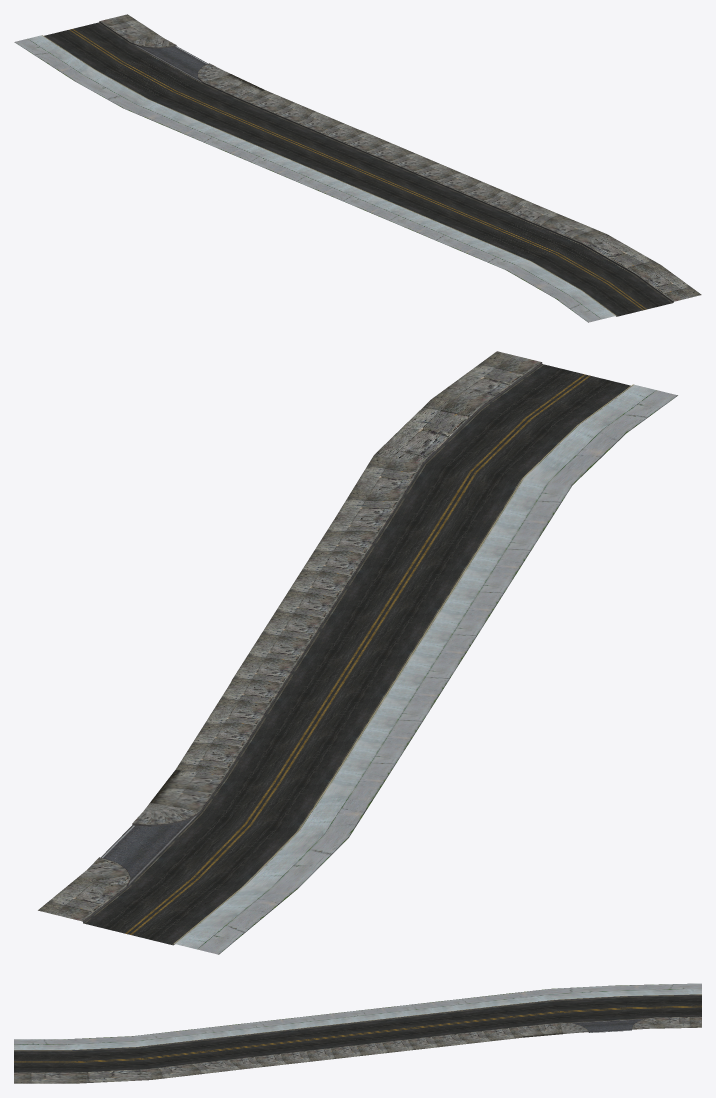
File: roads11_lan.obj
3 views of the same model, one above another, from view 1: azimuth 30°, elevation 25°; view 2: azimuth 150°, elevation 25°; view 3: azimuth 270°, elevation 25° (orthographic). The views are drawn at different scales.
Parts seen in each view (by area): view 1: Roads11_LAn; view 2: Roads11_LAn; view 3: Roads11_LAn.
Boxes of the visible parts, x1=… form: Roads11_LAn: x1=14, y1=14, x2=701, y2=322; Roads11_LAn: x1=38, y1=351, x2=677, y2=954; Roads11_LAn: x1=14, y1=983, x2=701, y2=1083.
Bounding box in the file's own units: 45.2 × 0.22 × 131.
